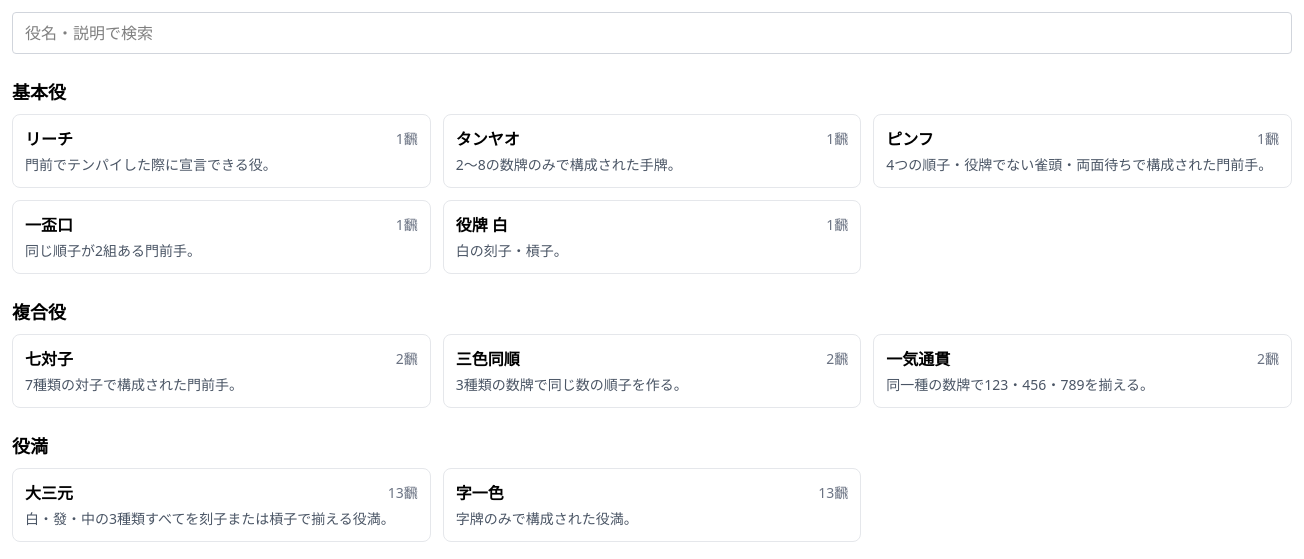
Test: YakuList 表示・検索 › 検索で役が絞り込まれる（要件2.5）
Type "リーチ" into the search field named "役の検索" at point(652, 33), box 12,12 -> 1292,54
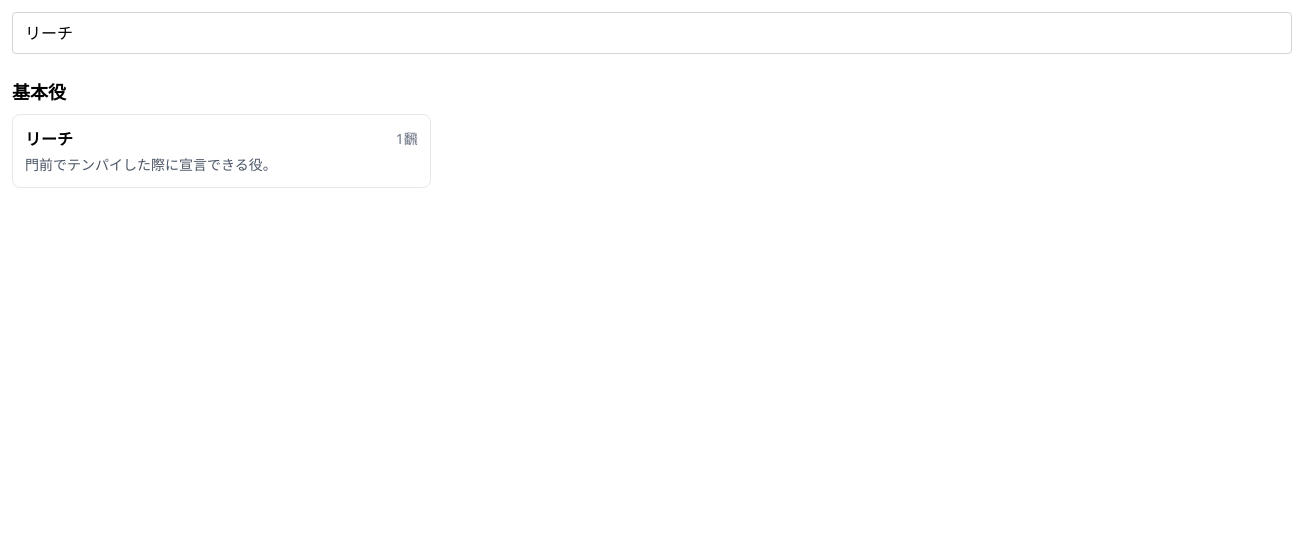
Expected: the text "リーチ" is shown, 25,127 -> 73,151
Expected: the link "タンヤオ" is gone
